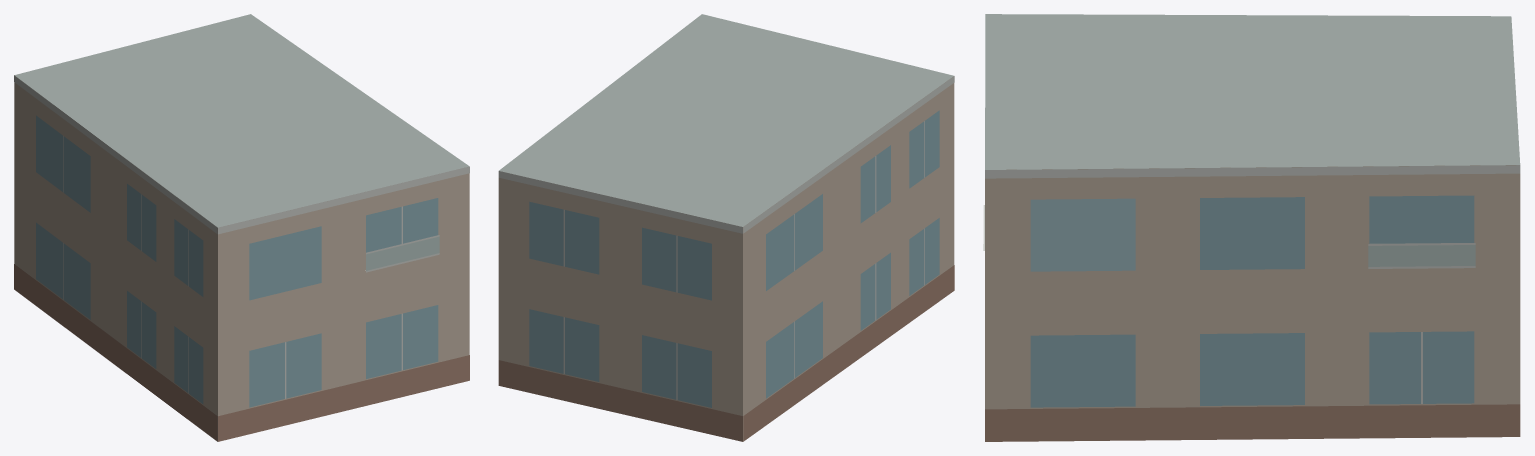
The model's file is survey-upis-32632212.glb.
3 views of the same model, side by side, from view 1: azimuth 30°, elevation 25°; view 2: azimuth 150°, elevation 25°; view 3: azimuth 270°, elevation 25° (orthographic). The views are drawn at different scales.
Visible parts, largest first — view 1: survey-upis-32632212.tmp; view 2: survey-upis-32632212.tmp; view 3: survey-upis-32632212.tmp.
Part boxes in pixels (<box>): survey-upis-32632212.tmp: <box>14,14,469,441</box>; survey-upis-32632212.tmp: <box>498,14,954,441</box>; survey-upis-32632212.tmp: <box>983,14,1520,441</box>.
Size of the model in its own units: 9.48 by 7.7 by 13.79.
